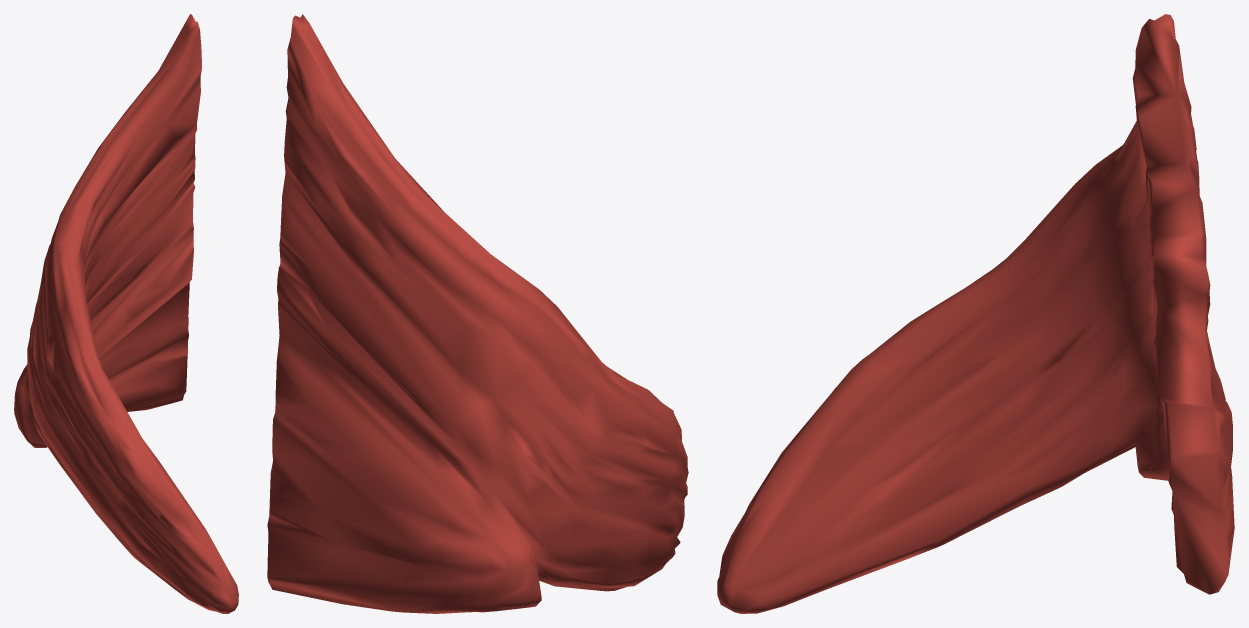
Rendered from musculos-middle-pharyngeal-constrictor-r.glb.
3 views of the same model, side by side, from view 1: azimuth 30°, elevation 25°; view 2: azimuth 150°, elevation 25°; view 3: azimuth 270°, elevation 25° (orthographic). The views are drawn at different scales.
Parts seen in each view (by area): view 1: Middle pharyngeal constrictor.r; view 2: Middle pharyngeal constrictor.r; view 3: Middle pharyngeal constrictor.r.
Part boxes in pixels (<box>): Middle pharyngeal constrictor.r: <box>14,14,238,613</box>; Middle pharyngeal constrictor.r: <box>267,14,688,613</box>; Middle pharyngeal constrictor.r: <box>717,14,1234,613</box>.
Bounding box in the file's own units: 0.0188 × 0.0458 × 0.0316.
